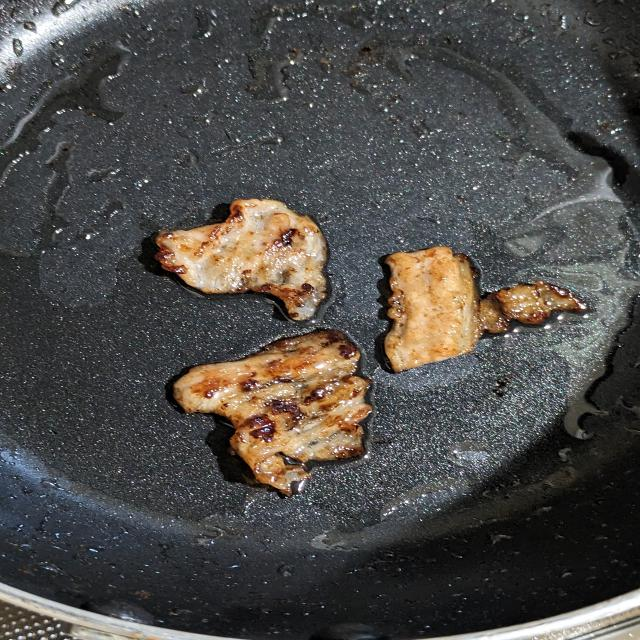OK cooked pork,: (167, 316, 382, 502), (375, 233, 625, 379), (153, 192, 344, 331)
